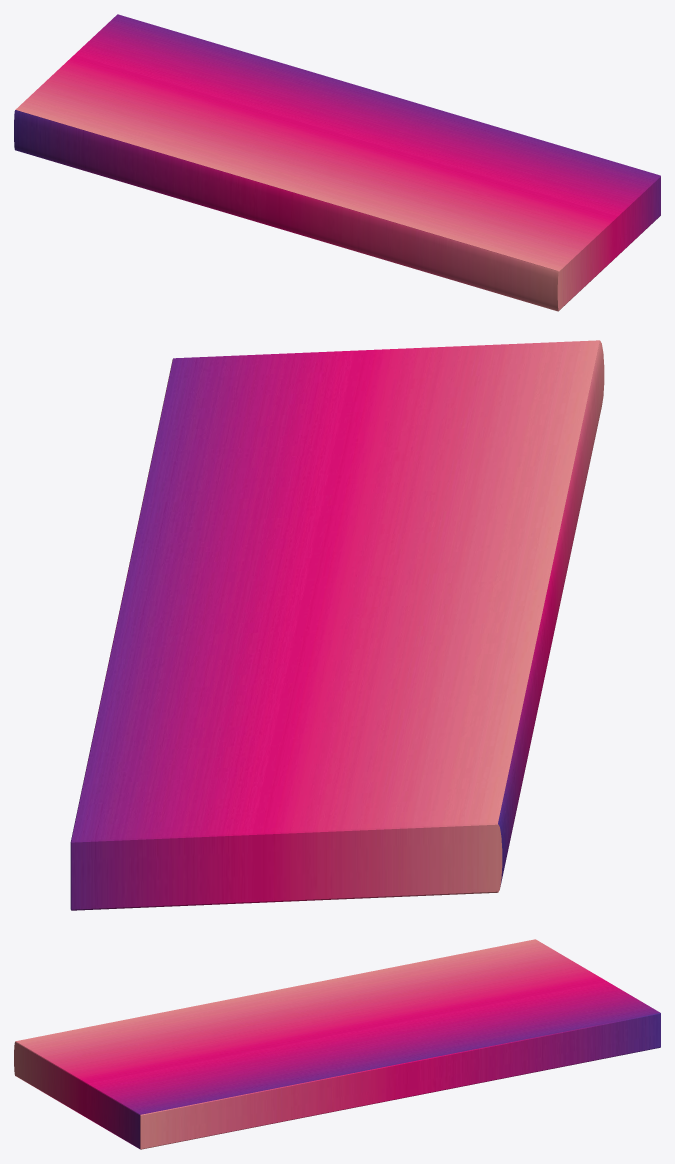
File: Repisasalma.obj
3 renders of one model, top to bottom at view 1: azimuth 30°, elevation 25°; view 2: azimuth 150°, elevation 25°; view 3: azimuth 270°, elevation 25°, orthographic. The views are drawn at different scales.
Parts seen in each view (by area): view 1: intento:shelf; view 2: intento:shelf; view 3: intento:shelf.
Part boxes in pixels (box(x1,y1,x2,y2)): intento:shelf: box(14, 14, 660, 311); intento:shelf: box(70, 340, 604, 910); intento:shelf: box(14, 939, 660, 1149).
Size of the model in its own units: 8.84 by 0.818 by 13.69.
Materials: 1 (1 with a texture image).
